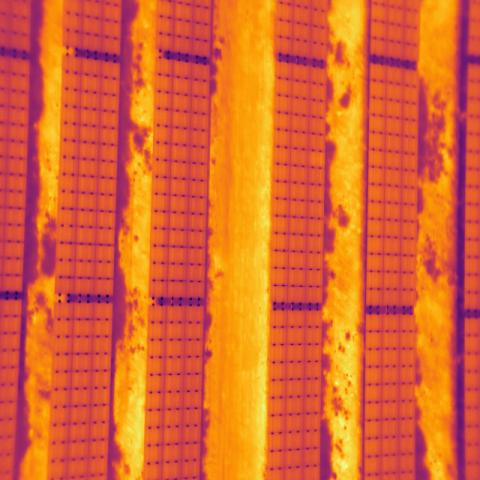fault: (307, 150, 326, 168)
